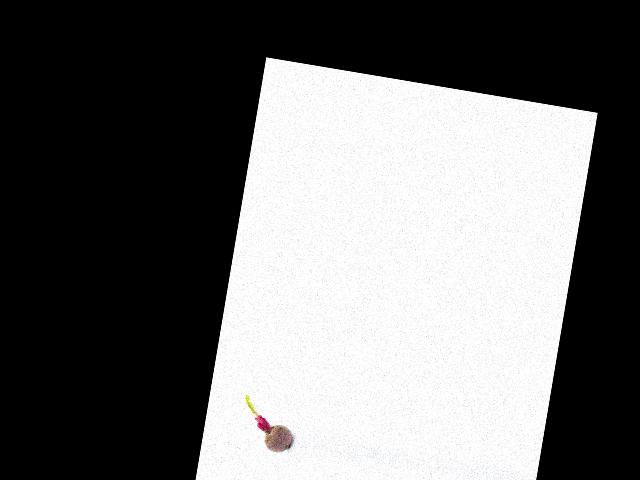beet: (237, 395, 298, 455)
